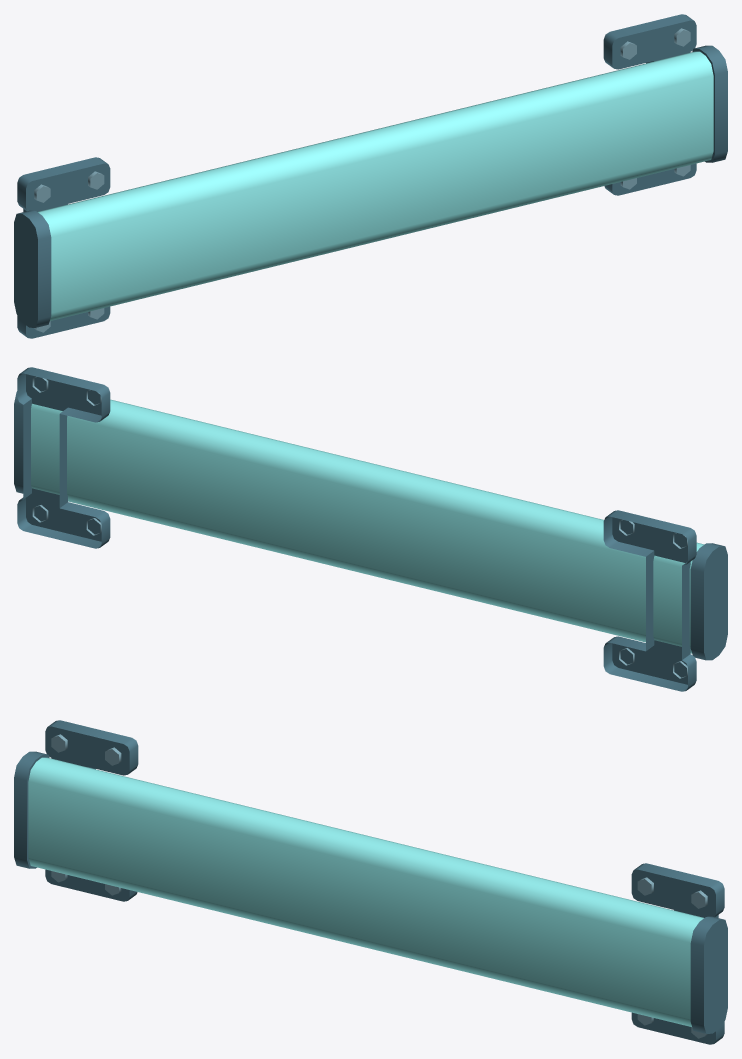
Rendered from lamp_4.fbx.
The picture shows the model from 3 angles, top to bottom: view 1: azimuth 30°, elevation 25°; view 2: azimuth 150°, elevation 25°; view 3: azimuth 330°, elevation 25°; orthographic projection.
Parts seen in each view (by area): view 1: lamp_4, lamp_4.002; view 2: lamp_4, lamp_4.002; view 3: lamp_4, lamp_4.002.
Part boxes in pixels (x1,y1,x2,y2): lamp_4: [38, 51, 713, 320]; lamp_4.002: [14, 14, 727, 338]; lamp_4: [31, 399, 704, 653]; lamp_4.002: [14, 367, 727, 691]; lamp_4: [28, 757, 703, 1026]; lamp_4.002: [14, 720, 727, 1044].
Bounding box in the file's own units: 58.29 × 12.73 × 4.44.
